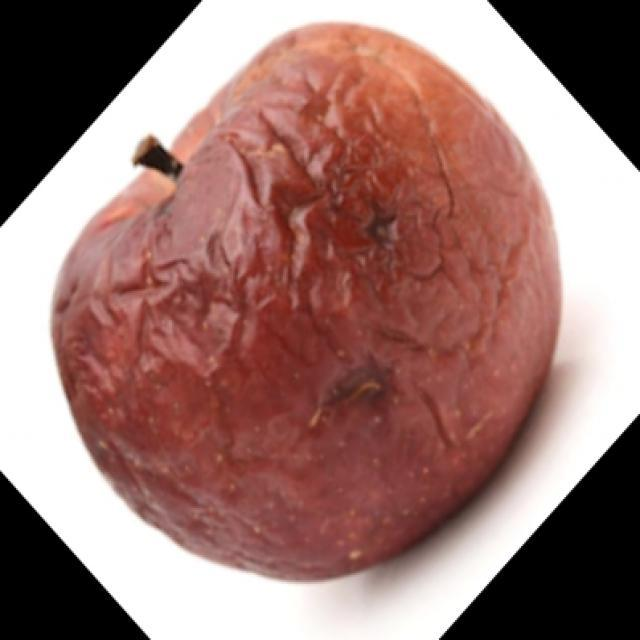Rotten: (75, 33, 547, 555)
